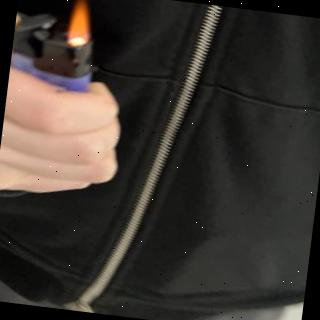fire: (65, 0, 95, 50)
